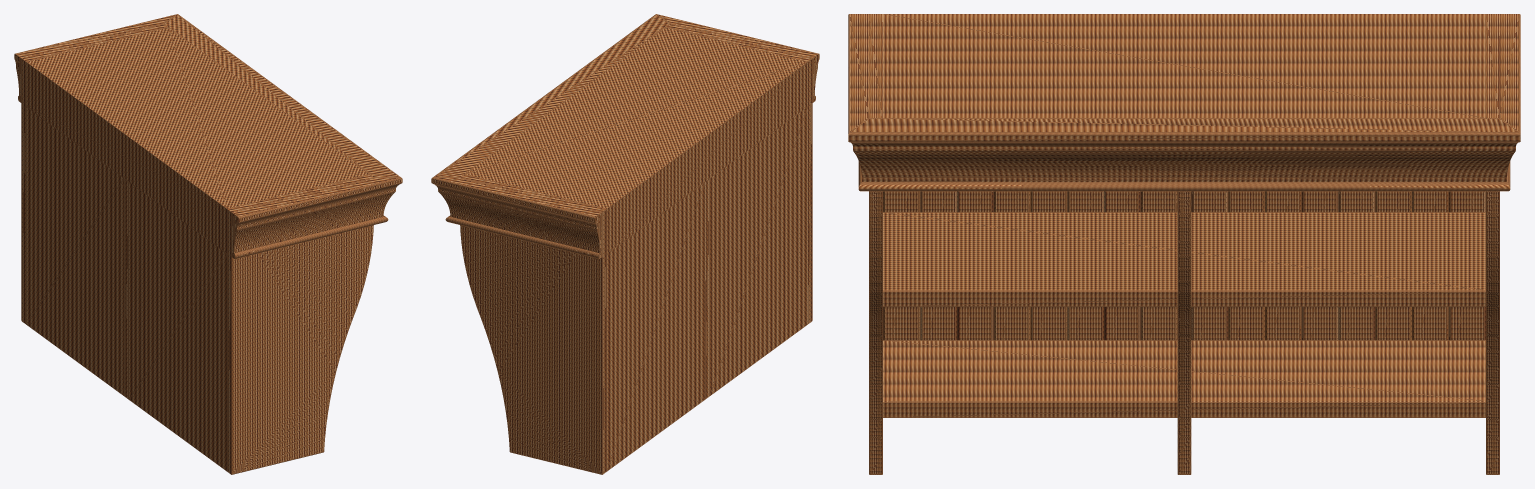
The model's file is etagere_bois2.dae.
3 views of the same model, side by side, from view 1: azimuth 30°, elevation 25°; view 2: azimuth 150°, elevation 25°; view 3: azimuth 270°, elevation 25° (orthographic). The views are drawn at different scales.
Visible parts, largest first — view 1: _dSolid; view 2: _dSolid; view 3: _dSolid, ___DUMMY_Group01.
Part boxes in pixels (box(x1,y1,x2,y2)): _dSolid: box(14, 14, 402, 474); _dSolid: box(431, 14, 819, 474); _dSolid: box(848, 14, 1520, 474); ___DUMMY_Group01: box(883, 212, 1485, 417).
Bounding box in the file's own units: 0.736 × 1.75 × 1.13.
1 material, 1 textured.
